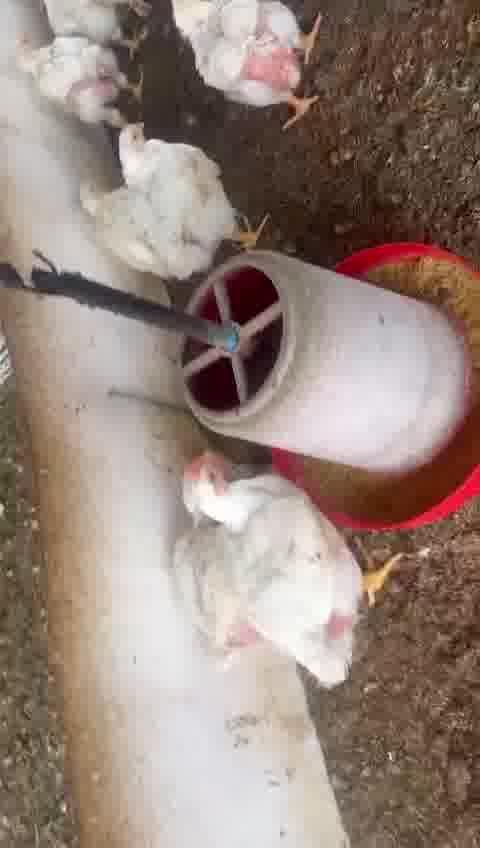Normal: (192, 459, 405, 691), (160, 458, 307, 652), (167, 5, 330, 124), (115, 130, 271, 248), (75, 184, 220, 273), (12, 32, 145, 126)
